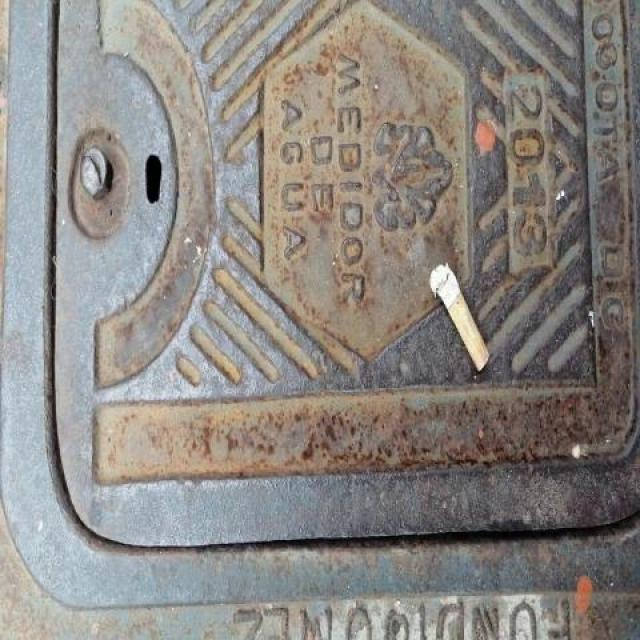non-organic waste: (424, 259, 493, 374)
